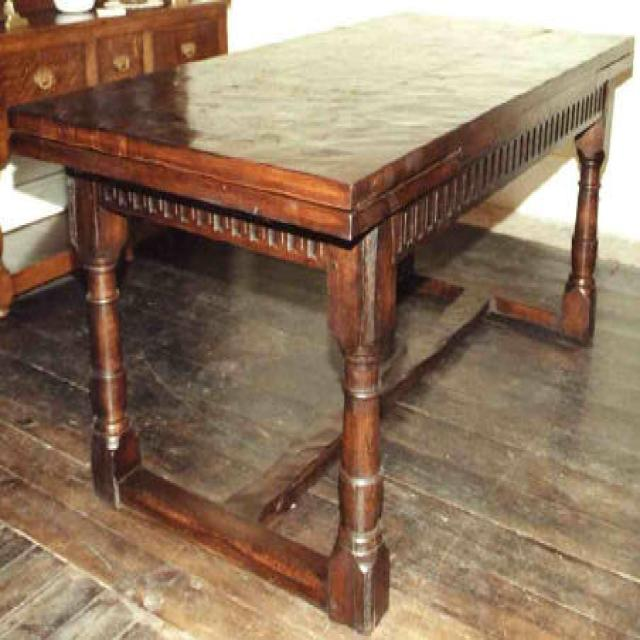table: (7, 8, 634, 634)
